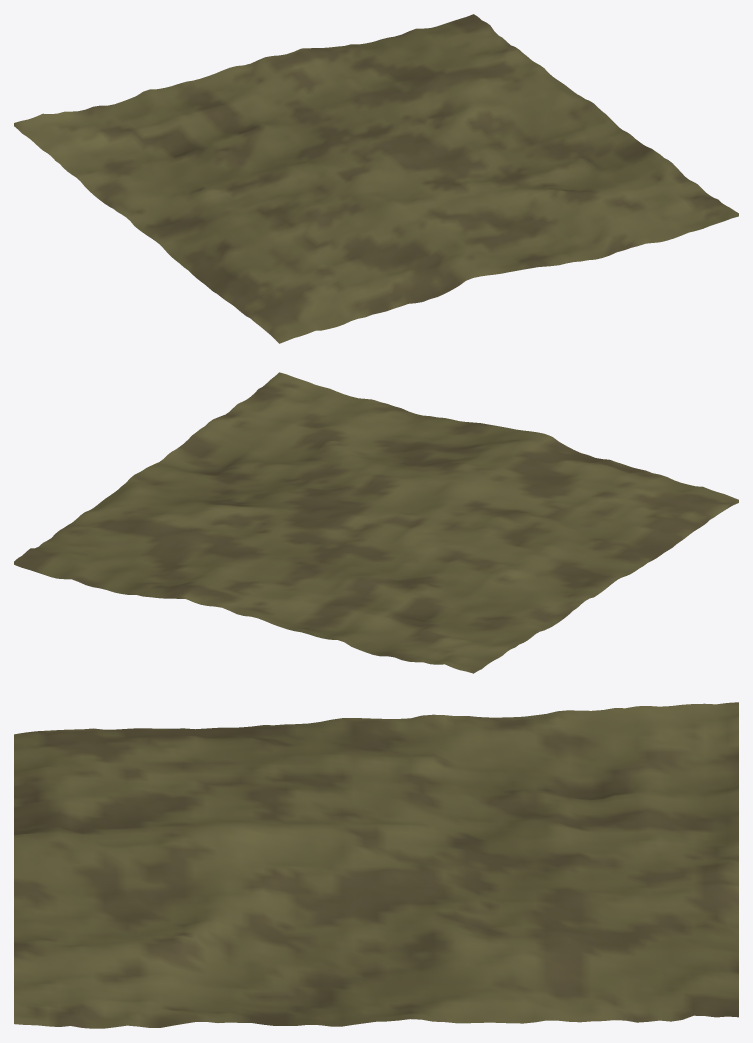
Rendered from land_f_07_03.glb.
3 views of the same model, one above another, from view 1: azimuth 30°, elevation 25°; view 2: azimuth 150°, elevation 25°; view 3: azimuth 270°, elevation 25° (orthographic). The views are drawn at different scales.
Parts seen in each view (by area): view 1: land_f_07_03; view 2: land_f_07_03; view 3: land_f_07_03.
Part boxes in pixels (box(x1,y1,x2,y2)): land_f_07_03: box(14, 14, 738, 343); land_f_07_03: box(14, 372, 738, 673); land_f_07_03: box(14, 702, 738, 1028).
Size of the model in its own units: 3840 by 258 by 3840.
